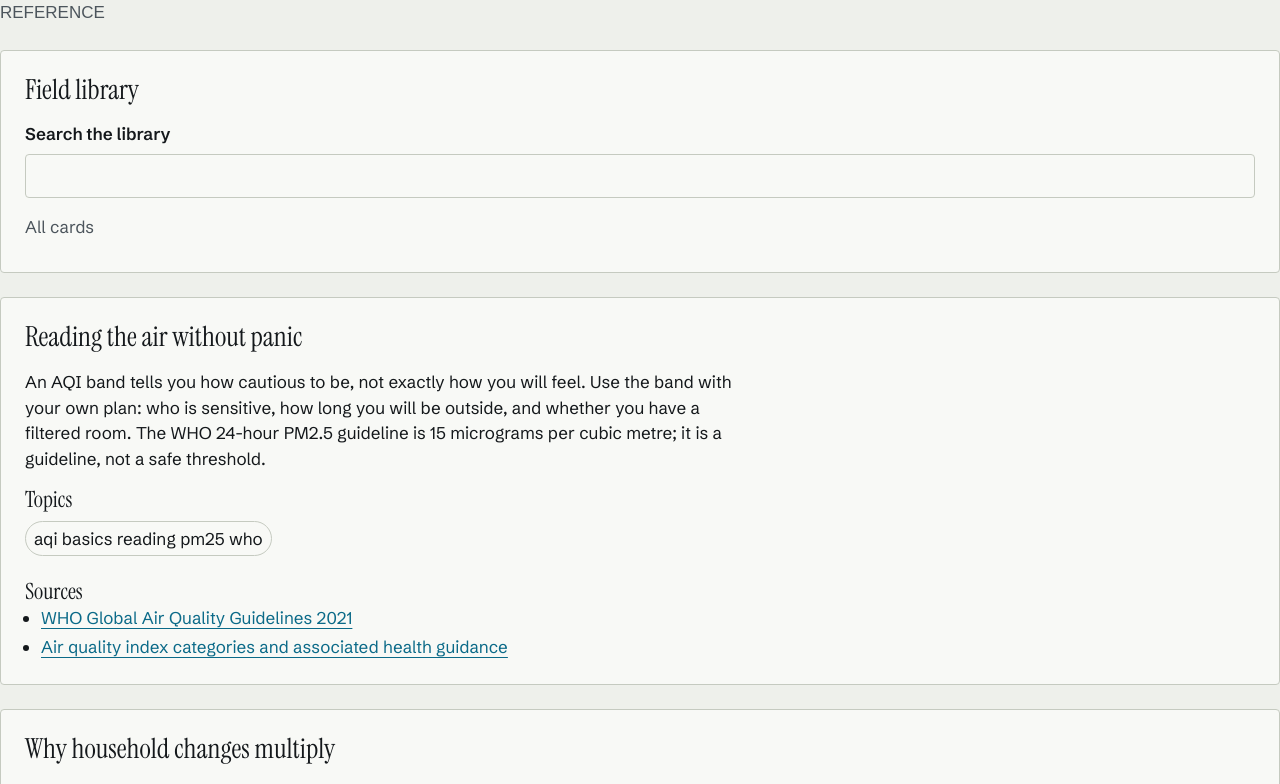
Scenario: P2 screens › browses and filters sourced field cards locally
The width and height of the screenshot is (1280, 784).
Expected: the text "All cards" is shown, [25,216,94,237]
Type "cadr" into the field labelled "Search the library". click: [640, 176]
box: [25,154,1255,198]
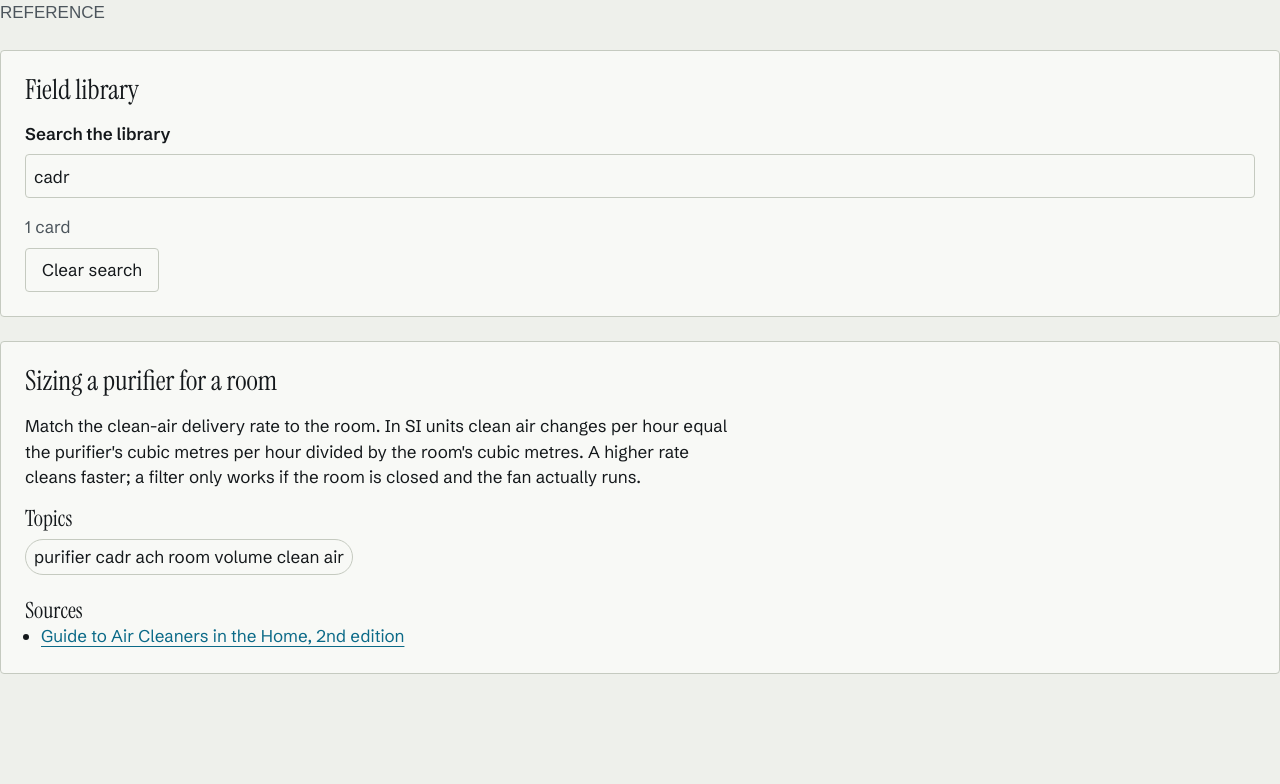
Expected: the heading "Sizing a purifier for a room" is shown, [25,363,277,399]
Now the text "1 card" is shown, box [25,216,70,237]
Click the button "Clear search". click: [92, 270]
box: [25,248,159,292]
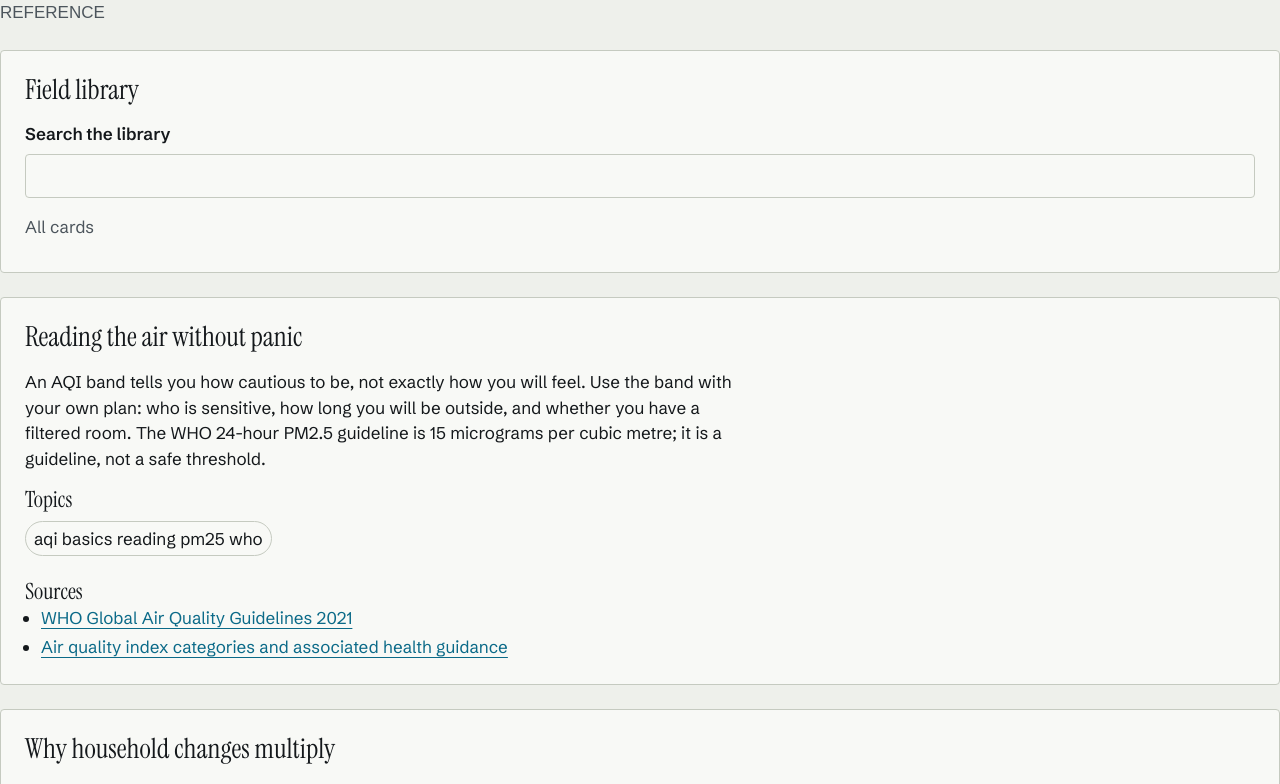
Now the text "All cards" is shown, box [25,216,94,237]
